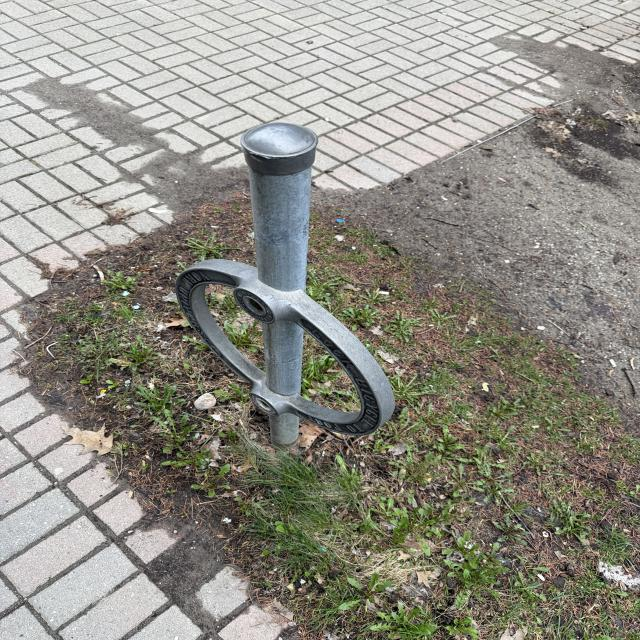Bicycle Rack: (178, 123, 404, 458)
